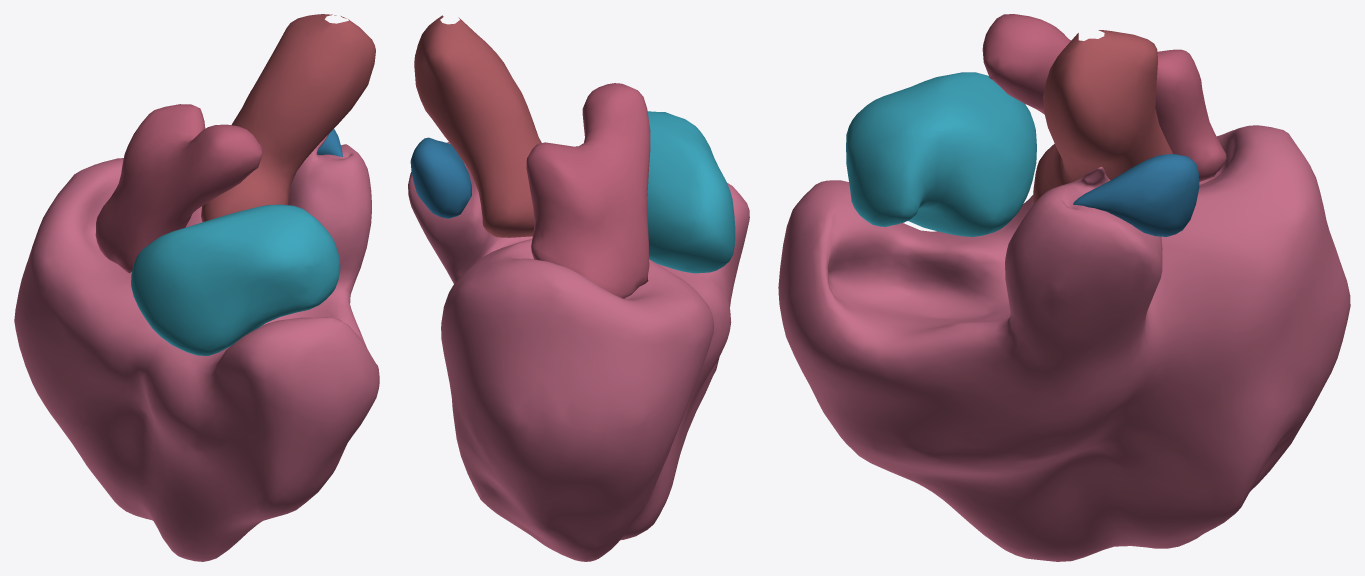
File: frame_17.glb
3 renders of one model, left to right at view 1: azimuth 30°, elevation 25°; view 2: azimuth 150°, elevation 25°; view 3: azimuth 270°, elevation 25°, orthographic. The views are drawn at different scales.
Parts seen in each view (by area): view 1: Renderer Node; view 2: Renderer Node; view 3: Renderer Node.
Part boxes in pixels (bbox=[...]): Renderer Node: bbox=[14, 14, 379, 561]; Renderer Node: bbox=[408, 15, 749, 561]; Renderer Node: bbox=[778, 14, 1350, 561].
Size of the model in its own units: 101 by 158 by 132.
